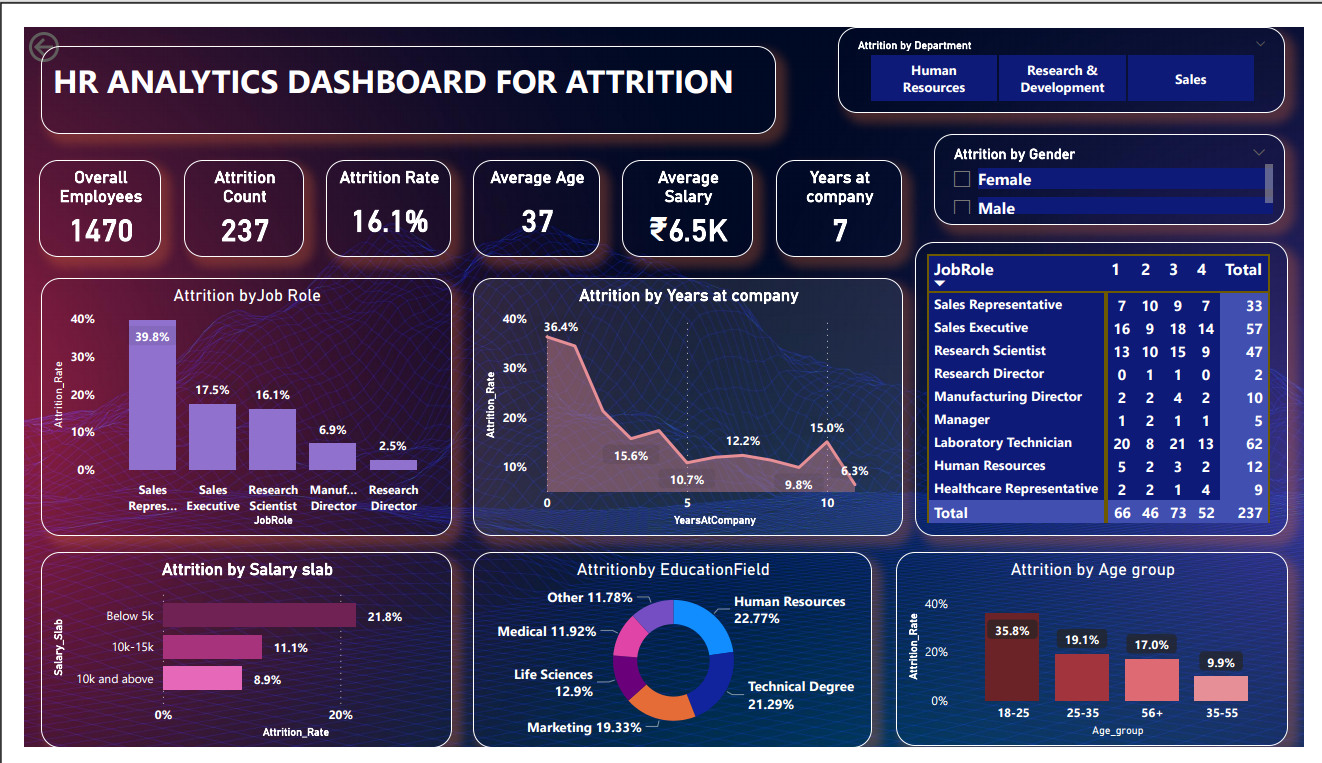

What the dashboard file says about the page in this screenshot:
{"tool":"powerbi","page":{"name":"Page 1","canvas":[1280,720],"ordinal":0},"visuals":[{"type":"card","title":"Average Age","fields":{"Values":["Avg(HR-Employee-Attrition.Age)"]},"box":[448.8,132.8,126.9,97.4],"z":0},{"type":"card","title":"Attrition Count","fields":{"Values":["Sum(HR-Employee-Attrition.Attrition_count)"]},"box":[159.6,132.8,120.1,97.4],"z":1000},{"type":"card","title":"Attrition Rate","fields":{"Values":["HR-Employee-Attrition.Attrition_Rate"]},"box":[301.9,132.8,124.6,97.4],"z":2000},{"type":"card","title":"Average Salary","fields":{"Values":["Avg(HR-Employee-Attrition.MonthlyIncome)"]},"box":[597.9,132.8,131.4,97.4],"z":3000},{"type":"card","title":"Years at company","fields":{"Values":["Avg(HR-Employee-Attrition.YearsAtCompany)"]},"box":[751.5,132.8,126.9,97.4],"z":4000},{"type":"card","title":"Overall Employees ","fields":{"Values":["Sum(HR-Employee-Attrition.EmployeeCount)"]},"box":[15.1,132.8,122.4,97.4],"z":5000},{"type":"lineClusteredColumnComboChart","title":"Attrition by Age group","fields":{"Category":["HR-Employee-Attrition.Age_group "],"Y":["HR-Employee-Attrition.Attrition_Rate"]},"box":[871.8,525.5,391.7,193.5],"z":6000},{"type":"barChart","title":"Attrition by Salary slab","fields":{"Category":["HR-Employee-Attrition.Salary_Slab"],"Y":["HR-Employee-Attrition.Attrition_Rate"]},"box":[16.7,525.5,410.8,195.9],"z":7000},{"type":"donutChart","title":"Attritionby EducationField","fields":{"Y":["HR-Employee-Attrition.Attrition_Rate"],"Category":["HR-Employee-Attrition.EducationField"]},"box":[449,525.5,398.9,195.9],"z":8000},{"type":"columnChart","title":"Attrition byJob Role","fields":{"Category":["HR-Employee-Attrition.JobRole"],"Y":["HR-Employee-Attrition.Attrition_Rate"]},"box":[16.7,250.8,410.8,258],"z":9000},{"type":"areaChart","title":"Attrition by Years at company","fields":{"Category":["HR-Employee-Attrition.YearsAtCompany"],"Y":["HR-Employee-Attrition.Attrition_Rate"]},"box":[449,250.8,429.9,258],"z":10000},{"type":"actionButton","box":[0,0,100,40],"z":11000},{"type":"pivotTable","fields":{"Rows":["HR-Employee-Attrition.JobRole"],"Columns":["HR-Employee-Attrition.JobSatisfaction"],"Values":["Sum(HR-Employee-Attrition.Attrition_count)"]},"box":[890.9,215,372.6,293.8],"z":12000},{"type":"slicer","fields":{"Values":["HR-Employee-Attrition.Gender"]},"box":[910,107.5,351.1,90.8],"z":13000},{"type":"slicer","fields":{"Values":["HR-Employee-Attrition.Department"]},"box":[814.5,0,446.7,86],"z":14000},{"type":"textbox","box":[16.7,19.1,735.7,88.4],"z":15000}]}

Visuals, with their boxes in screenshot pixels (x1, y1, x2, y2), scaled from the page's 1280x720 canvas onto the 1322x763 screenshot:
"Average Age" card: Rect(464, 141, 595, 244)
"Attrition Count" card: Rect(165, 141, 289, 244)
"Attrition Rate" card: Rect(312, 141, 440, 244)
"Average Salary" card: Rect(618, 141, 753, 244)
"Years at company" card: Rect(776, 141, 907, 244)
"Overall Employees " card: Rect(16, 141, 142, 244)
"Attrition by Age group" lineClusteredColumnComboChart: Rect(900, 557, 1305, 762)
"Attrition by Salary slab" barChart: Rect(17, 557, 442, 762)
"Attritionby EducationField" donutChart: Rect(464, 557, 876, 762)
"Attrition byJob Role" columnChart: Rect(17, 266, 442, 539)
"Attrition by Years at company" areaChart: Rect(464, 266, 908, 539)
actionButton: Rect(0, 0, 103, 42)
pivotTable - HR-Employee-Attrition.JobRole x HR-Employee-Attrition.JobSatisfaction: Rect(920, 228, 1305, 539)
slicer - HR-Employee-Attrition.Gender: Rect(940, 114, 1302, 210)
slicer - HR-Employee-Attrition.Department: Rect(841, 0, 1303, 91)
textbox: Rect(17, 20, 777, 114)
